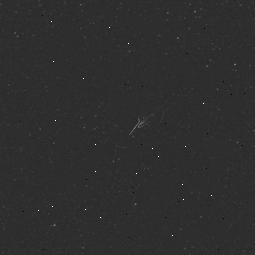proba_3_ocs: (110, 82, 179, 140)
